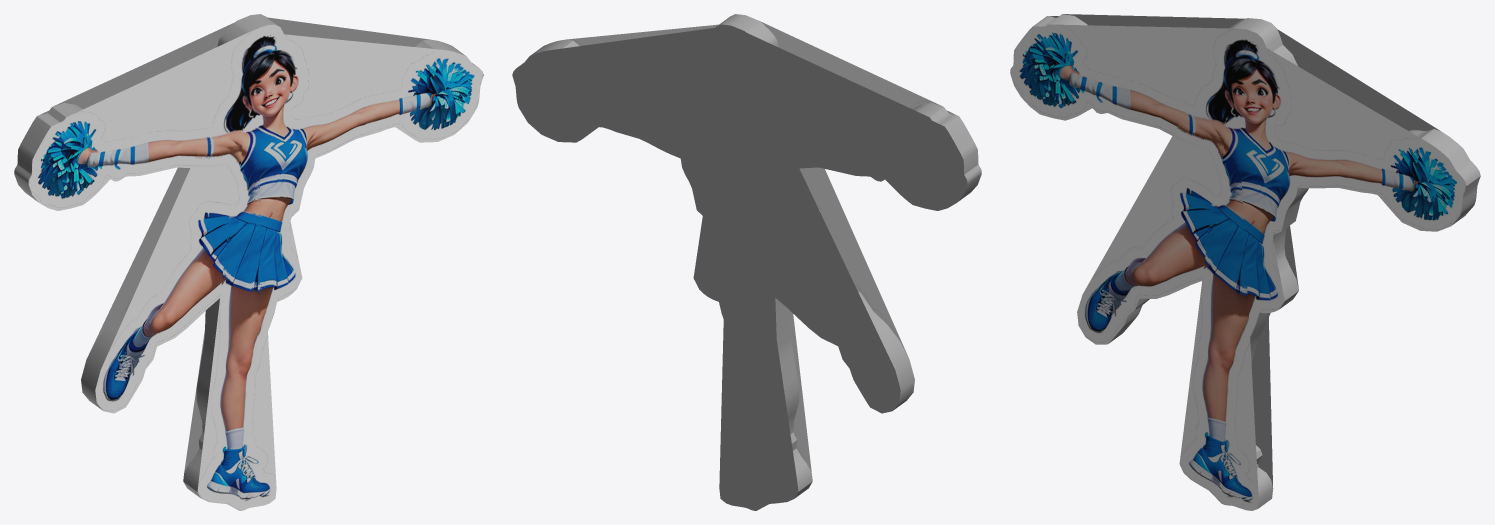
The model's file is Cheerleader.fbx.
3 renders of one model, left to right at view 1: azimuth 30°, elevation 25°; view 2: azimuth 150°, elevation 25°; view 3: azimuth 330°, elevation 25°, orthographic.
Parts seen in each view (by area): view 1: cheerleader; view 2: cheerleader; view 3: cheerleader.
Boxes of the visible parts, x1,y1,x2,y2 form: cheerleader: (14, 14, 483, 510); cheerleader: (512, 14, 981, 510); cheerleader: (1010, 14, 1480, 510).
Size of the model in its own units: 1.42 by 1.43 by 0.0769.
